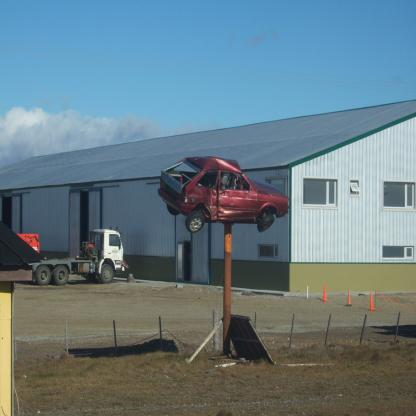Car: (154, 160, 288, 246)
